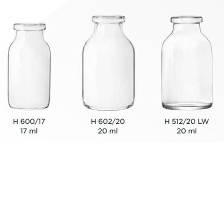bottle: (71, 8, 141, 112), (156, 9, 213, 114), (3, 15, 57, 112)
